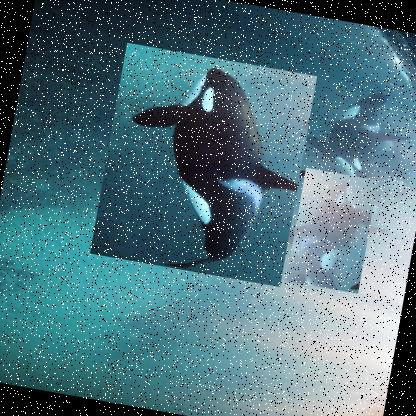killer_whale: (87, 41, 316, 286), (284, 166, 376, 293)
